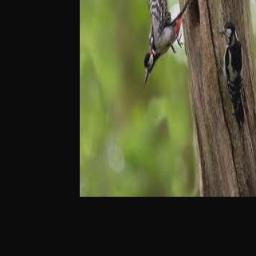Woodpecker: (144, 0, 190, 81), (218, 21, 244, 129)
